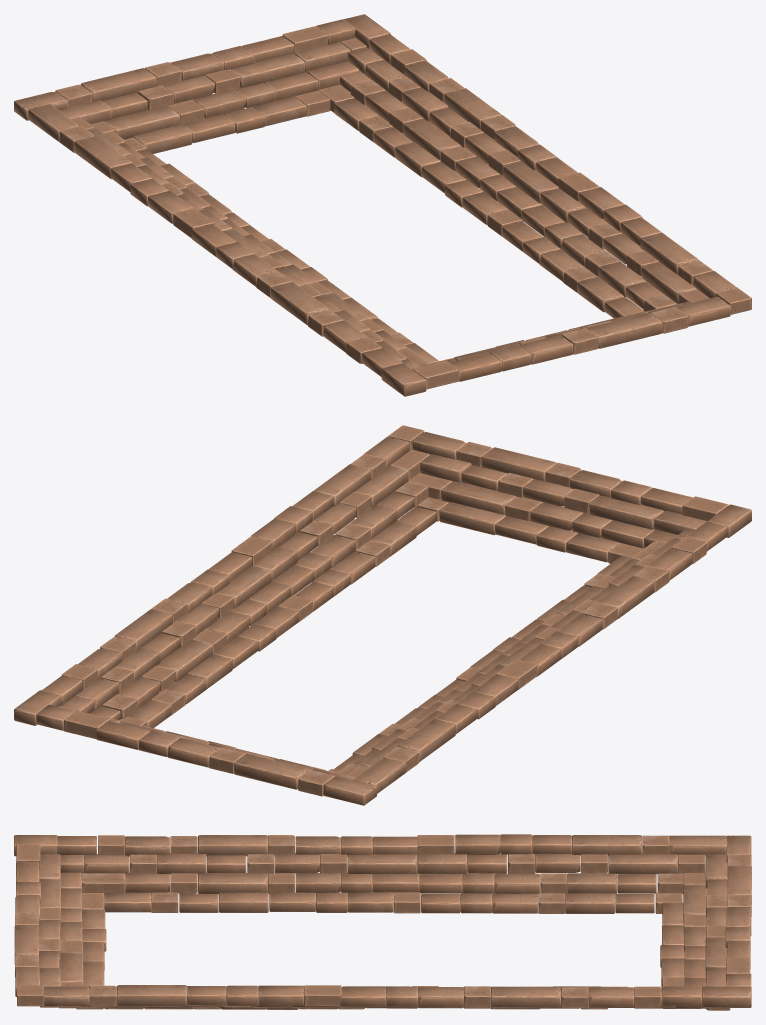
Rendered from SM_Stair_03.fbx.
3 renders of one model, top to bottom at view 1: azimuth 30°, elevation 25°; view 2: azimuth 150°, elevation 25°; view 3: azimuth 270°, elevation 25°, orthographic. The views are drawn at different scales.
Parts seen in each view (by area): view 1: SM_Stair_03_LOD0; view 2: SM_Stair_03_LOD0; view 3: SM_Stair_03_LOD0.
Boxes of the visible parts, x1=… form: SM_Stair_03_LOD0: x1=14, y1=14, x2=751, y2=396; SM_Stair_03_LOD0: x1=14, y1=425, x2=751, y2=805; SM_Stair_03_LOD0: x1=14, y1=834, x2=751, y2=1010.
Bounding box in the file's own units: 950 × 1827 × 115.
